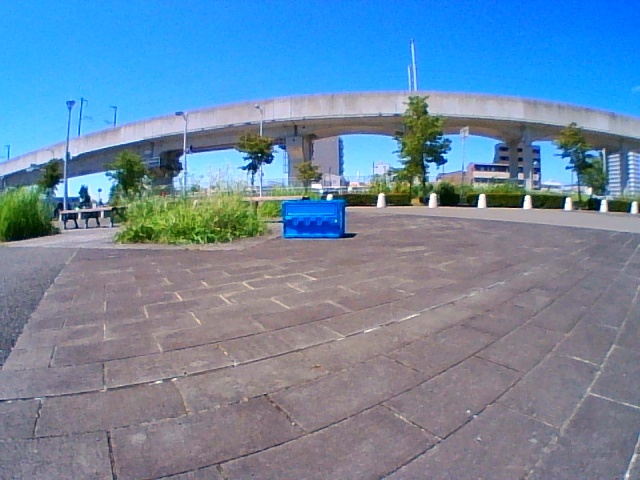blue_box: (284, 200, 345, 237)
tag: (338, 213, 341, 229)
